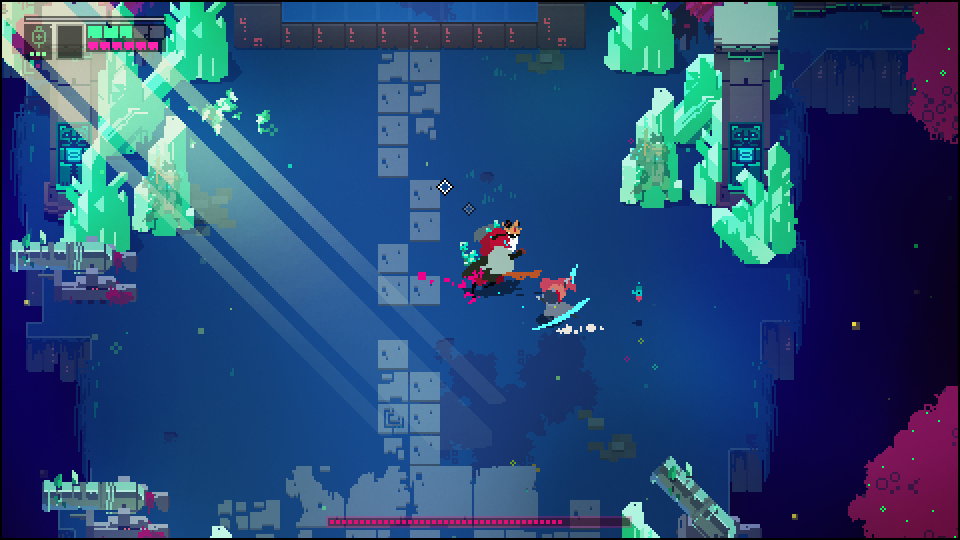hanged_man: (457, 214, 541, 290)
player: (534, 261, 588, 330)
